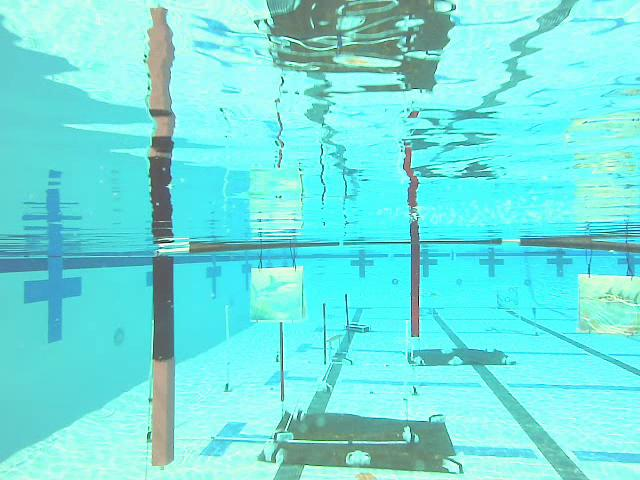black_poster: (277, 318, 289, 406), (319, 300, 330, 367), (342, 290, 354, 349)
left_gate_poster: (148, 251, 178, 472)
shark: (246, 265, 307, 326)
swordfish: (575, 271, 640, 336)
white_poster: (224, 302, 232, 396)
